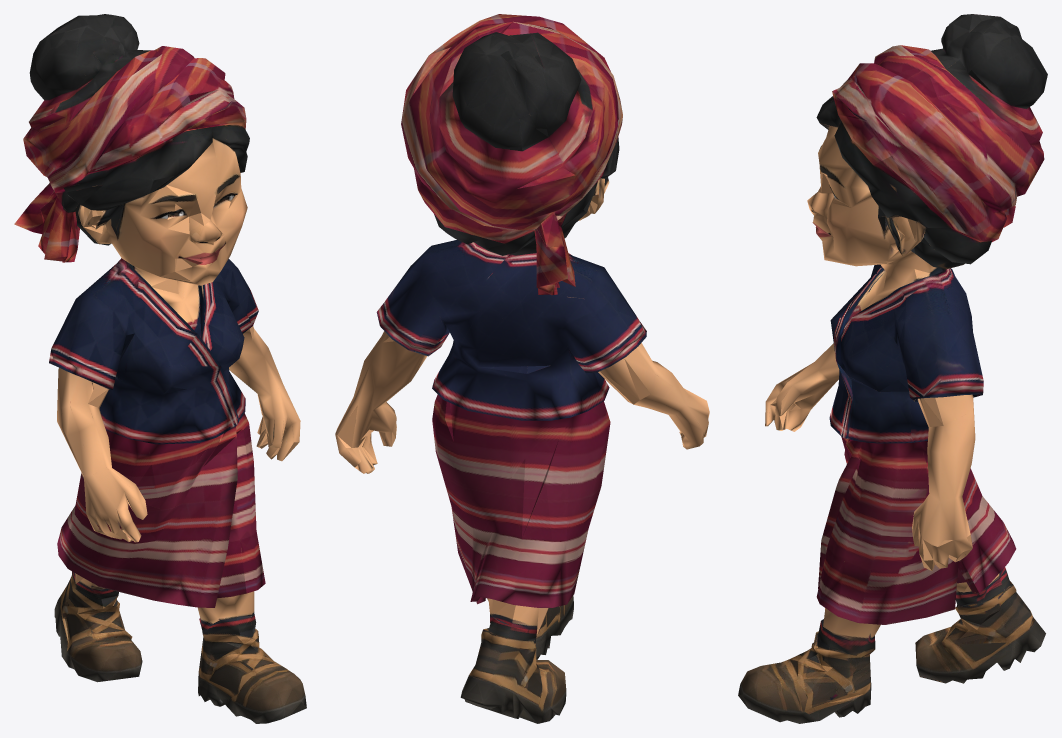
Rendered from C6_villager_b.glb.
The picture shows the model from 3 angles, left to right: view 1: azimuth 30°, elevation 25°; view 2: azimuth 150°, elevation 25°; view 3: azimuth 270°, elevation 25°; orthographic projection. The views are drawn at different scales.
Parts seen in each view (by area): view 1: Mesh_0.001; view 2: Mesh_0.001; view 3: Mesh_0.001.
Boxes of the visible parts, box(x1,y1,x2,y2) form: Mesh_0.001: box(14, 14, 306, 723); Mesh_0.001: box(335, 14, 709, 723); Mesh_0.001: box(738, 14, 1047, 723).
Size of the model in its own units: 0.5144 by 1.15 by 0.494.
1 material, 1 textured.
